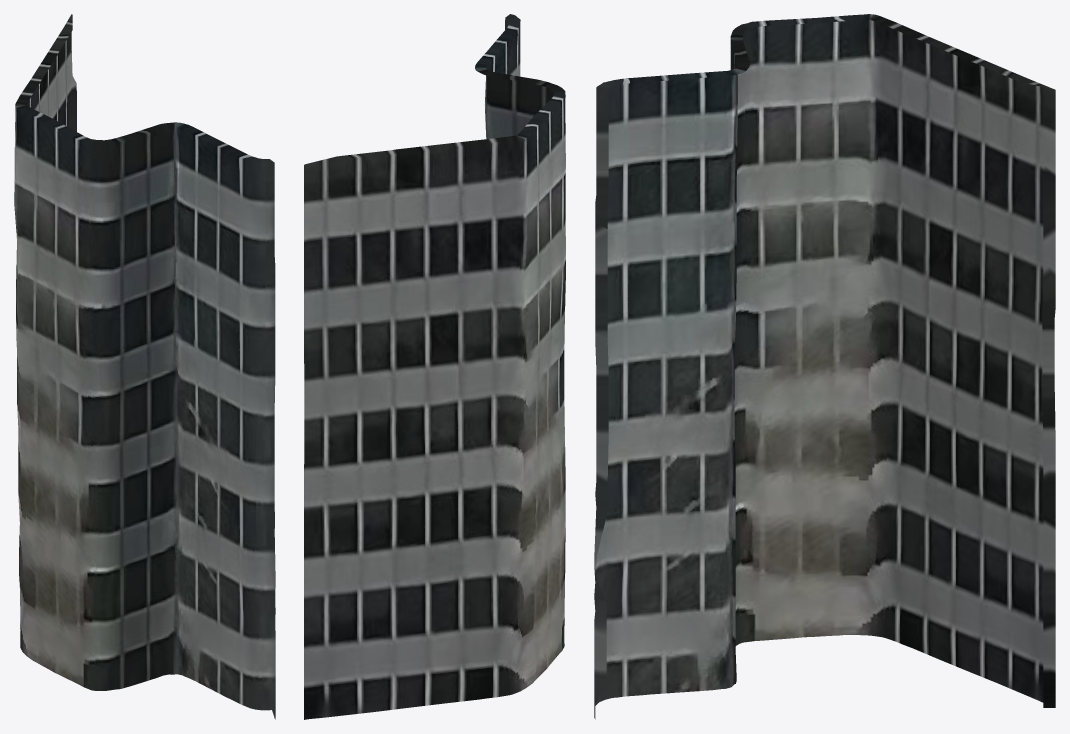
File: z20-167775-405235-h1-yup-uvflip-v3-world.glb
3 renders of one model, left to right at view 1: azimuth 30°, elevation 25°; view 2: azimuth 150°, elevation 25°; view 3: azimuth 270°, elevation 25°, orthographic. The views are drawn at different scales.
Size of the model in its own units: 7 by 27.12 by 18.
1 material, 1 textured.
